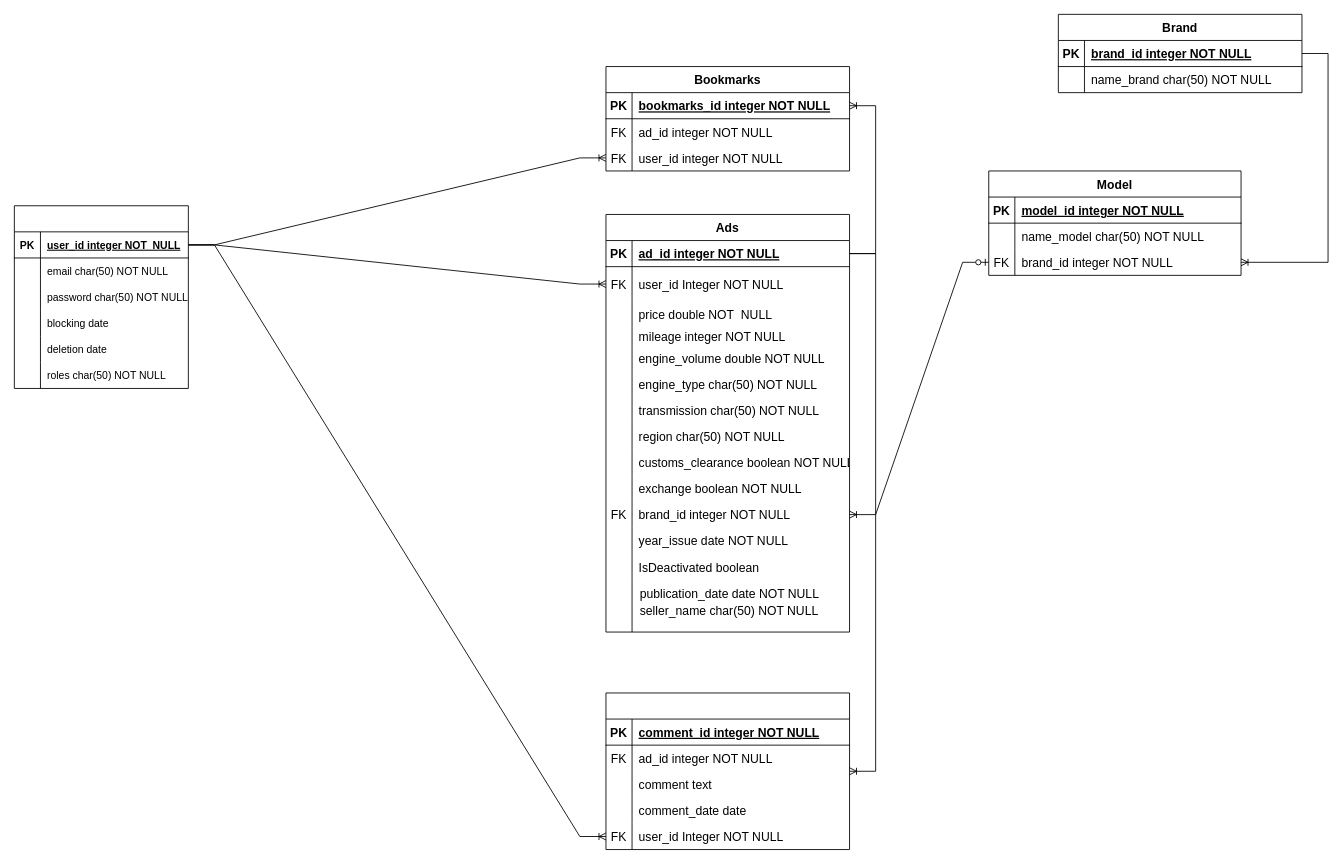
This 1342x864 diagram has some shape labels left out. Each missing label, with the box of its shape:
Comments: (605, 692, 850, 850)
Users: (13, 205, 188, 388)
